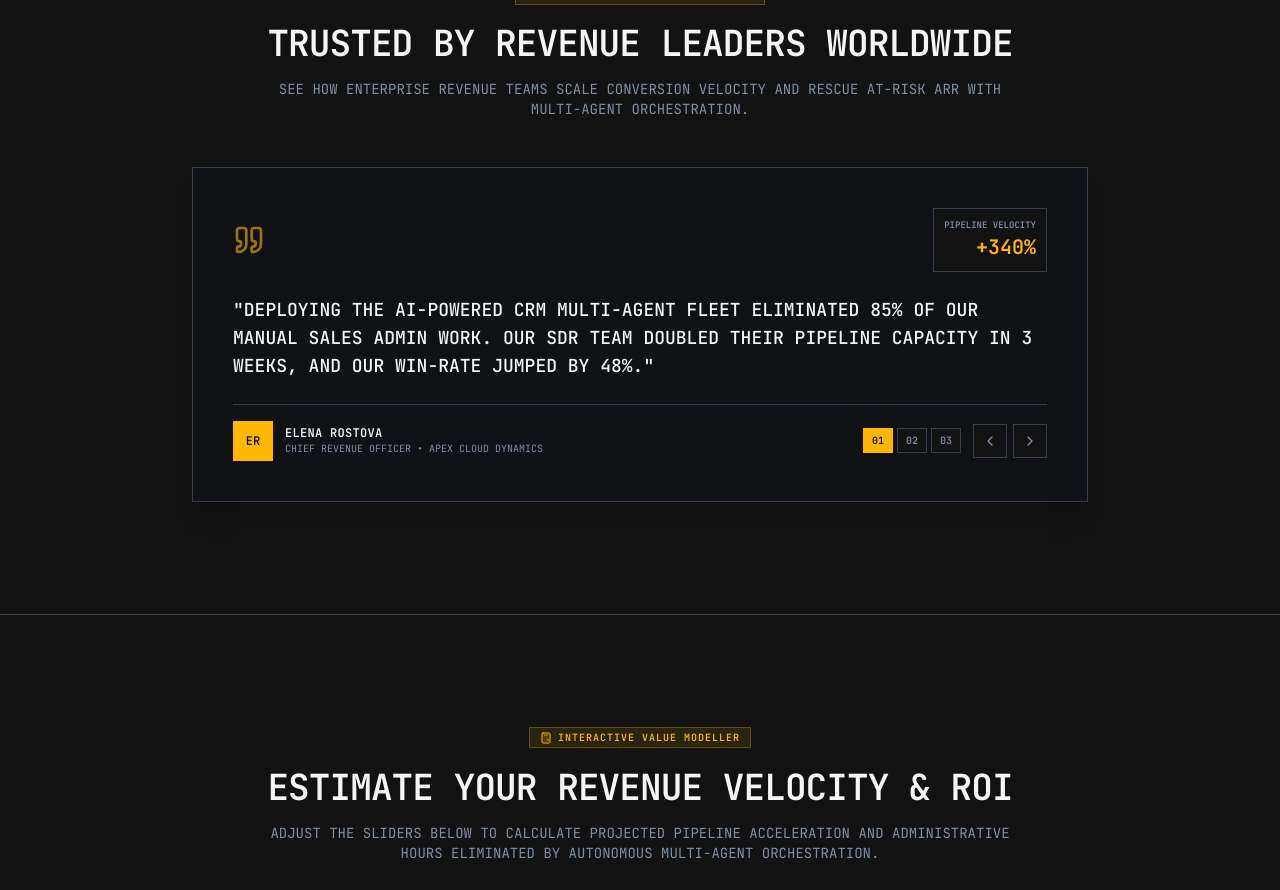
Test: SaaS Landing Page Feature Suite › renders TestimonialsSection and handles carousel navigation
(page scrolled)
Expected: the heading "Trusted by Revenue Leaders Worldwide" is shown, x1=256 y1=23 x2=1024 y2=63
Expected: the text "Elena Rostova" is shown, x1=285 y1=425 x2=382 y2=441
What coordinates should you click on to do the following:
click the button named "Next Testimonial"
I would click on:
 (1030, 440)
Its box is x1=1013 y1=424 x2=1047 y2=458.
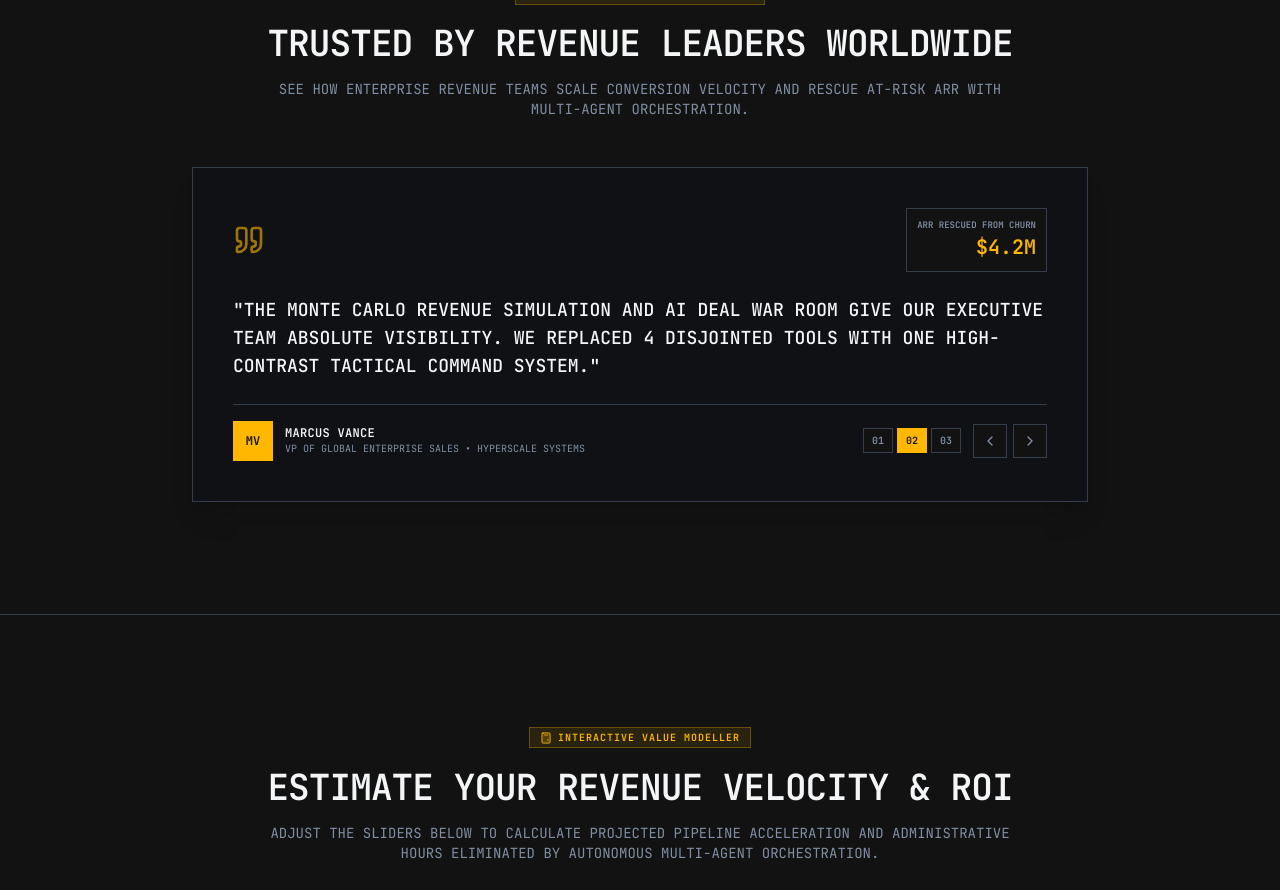
Now the text "Marcus Vance" is shown, box x1=285 y1=425 x2=375 y2=441
